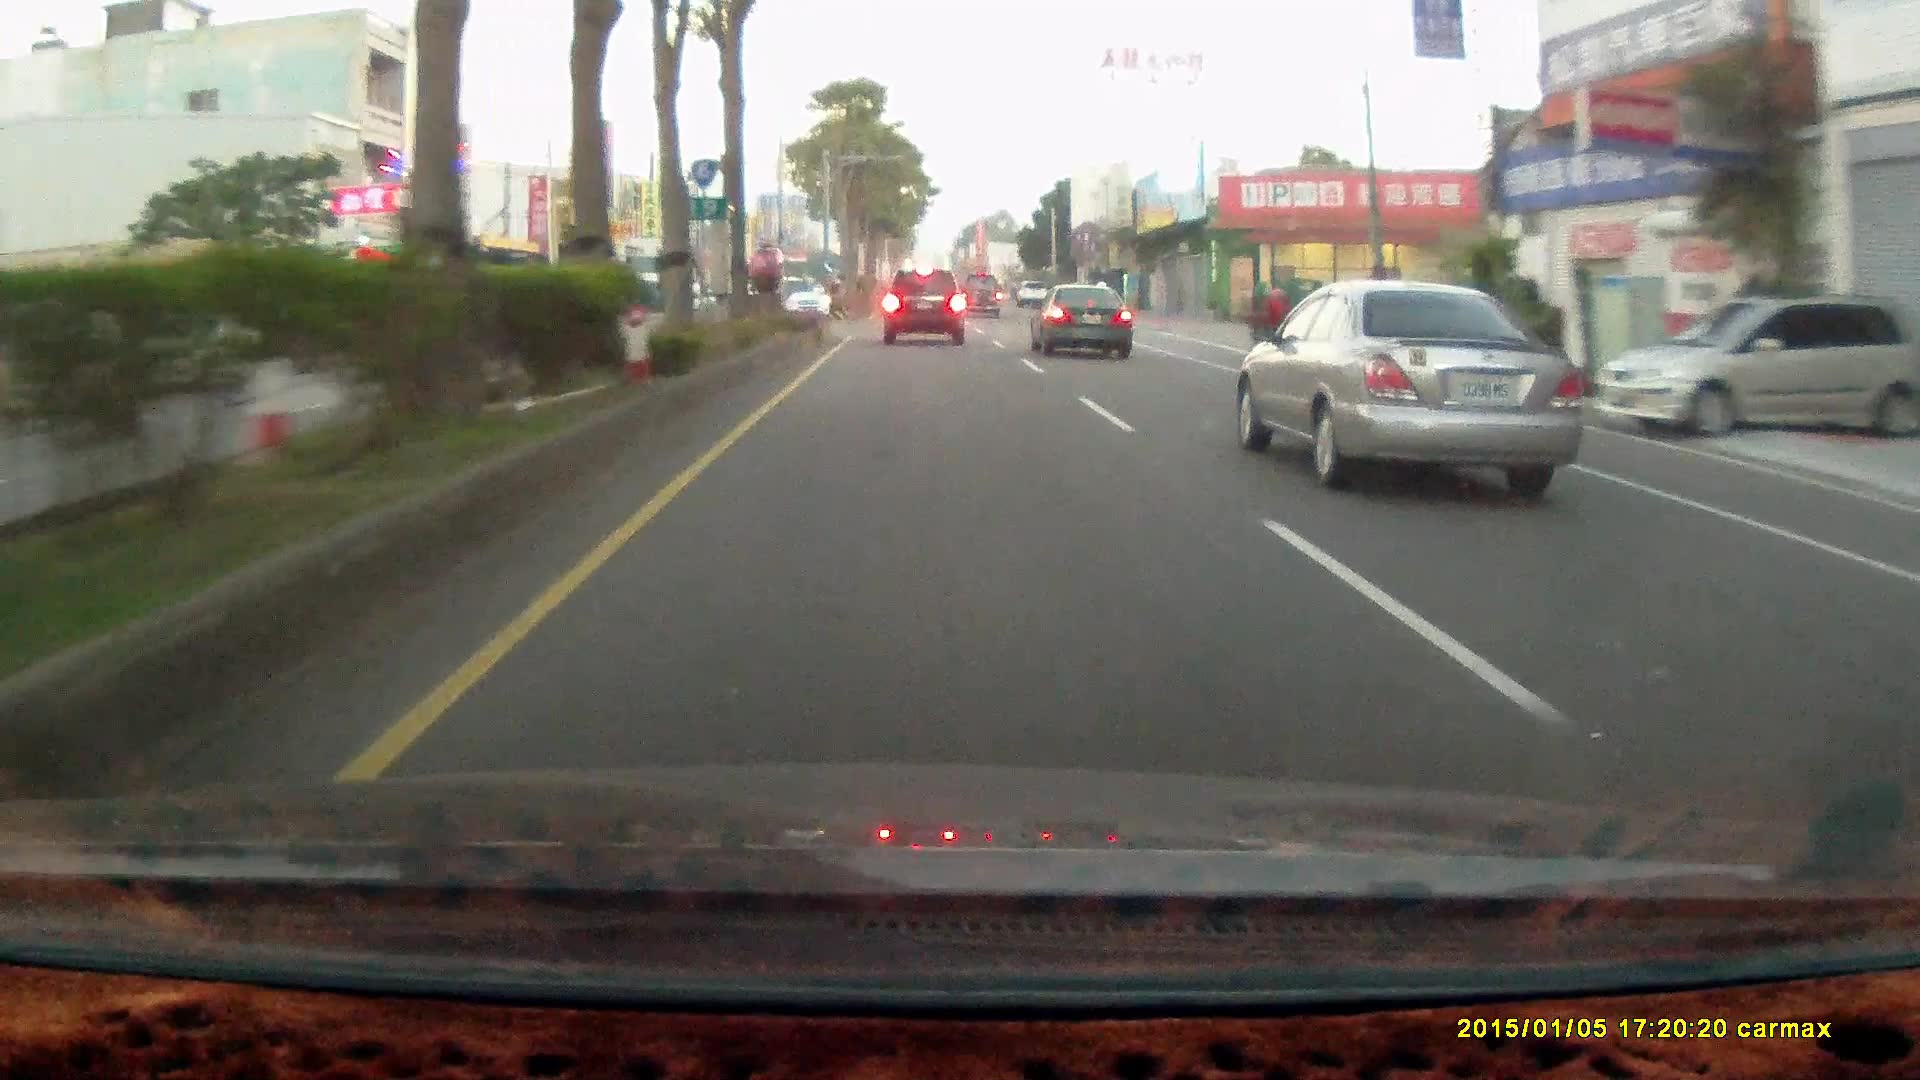pedestrian: (1262, 284, 1294, 362), (1265, 294, 1296, 367)
vehicle: (1238, 293, 1577, 504), (1594, 293, 1907, 447), (1595, 292, 1905, 445), (1030, 287, 1137, 365), (1029, 280, 1132, 359), (881, 269, 969, 350), (882, 269, 963, 344), (766, 273, 829, 329), (959, 276, 1004, 323), (958, 274, 1002, 320)
